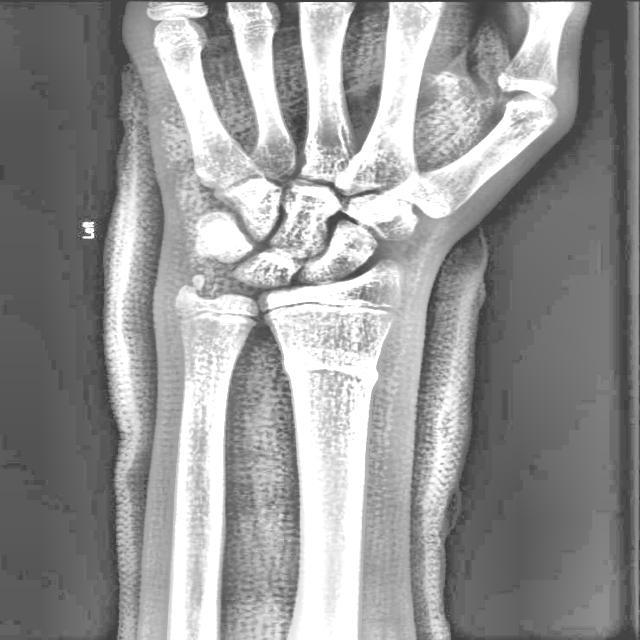fracture: (284, 362, 384, 386)
